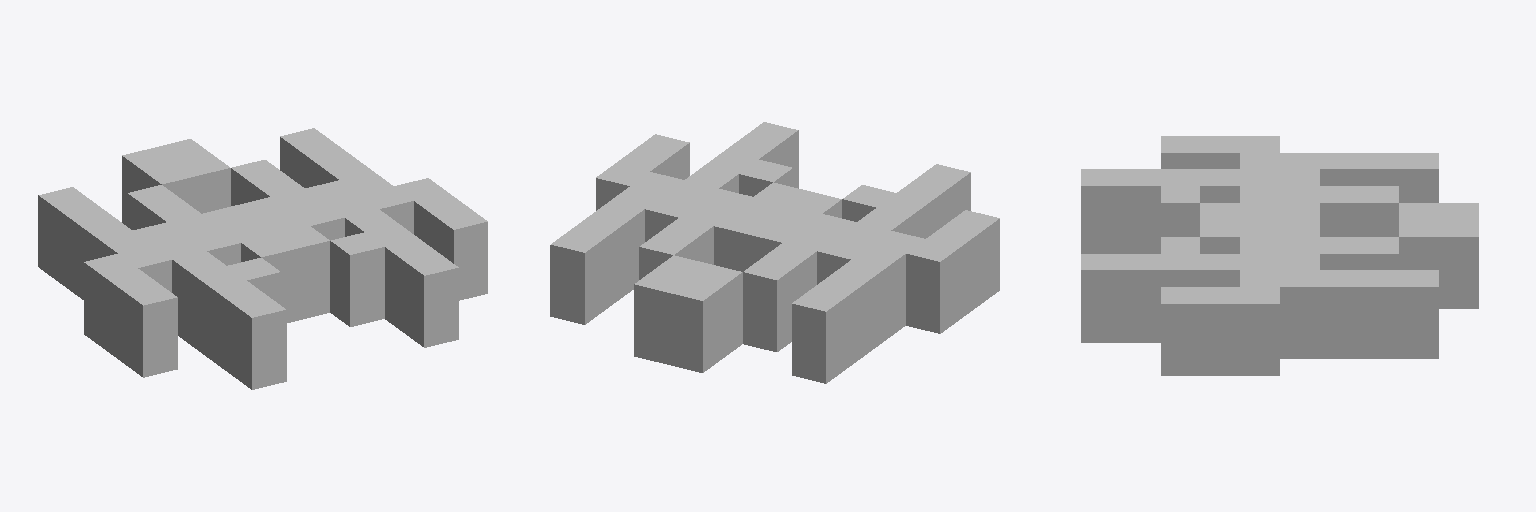
The model's file is Blue Ship 2.obj.
3 renders of one model, left to right at view 1: azimuth 30°, elevation 25°; view 2: azimuth 150°, elevation 25°; view 3: azimuth 270°, elevation 25°, orthographic.
Parts seen in each view (by area): view 1: Blue_Ship:Mesh; view 2: Blue_Ship:Mesh; view 3: Blue_Ship:Mesh.
Part boxes in pixels (bbox=[...]): Blue_Ship:Mesh: bbox=[38, 128, 487, 389]; Blue_Ship:Mesh: bbox=[550, 122, 999, 383]; Blue_Ship:Mesh: bbox=[1081, 136, 1478, 375].
Bounding box in the file's own units: 1 × 0.2 × 1.